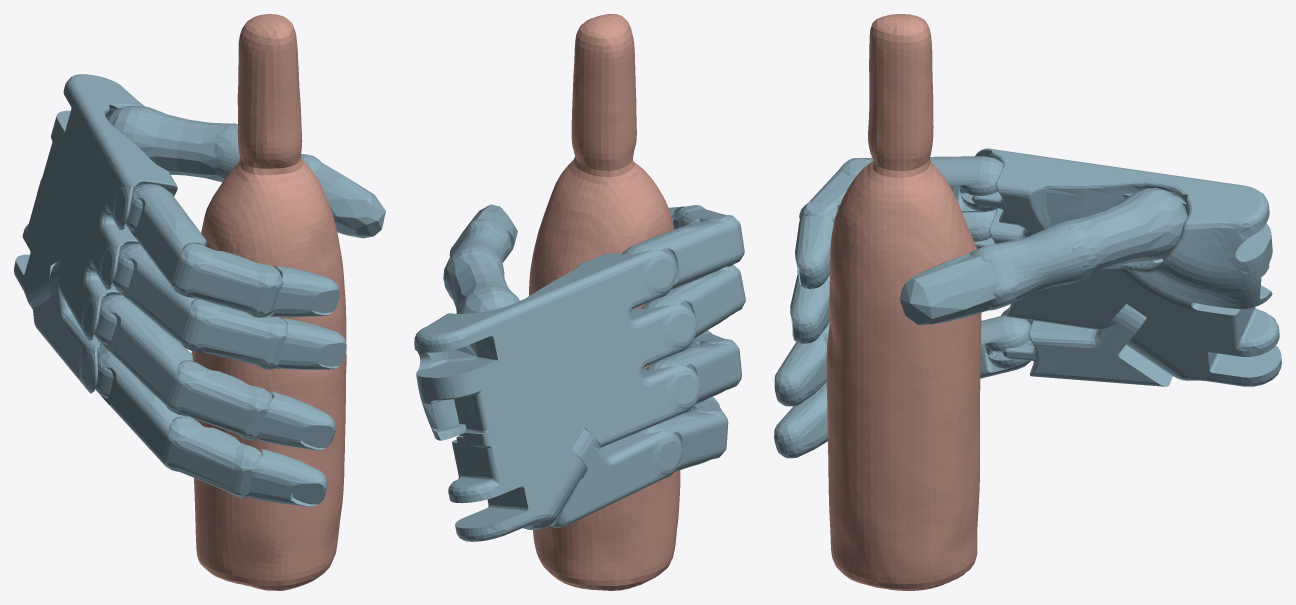
The model's file is 2_joint.glb.
3 renders of one model, left to right at view 1: azimuth 30°, elevation 25°; view 2: azimuth 150°, elevation 25°; view 3: azimuth 270°, elevation 25°, orthographic.
Visible parts, largest first — view 1: world; view 2: world; view 3: world.
Boxes of the visible parts, x1,y1,x2,y2 form: world: (14, 14, 385, 590); world: (414, 14, 745, 590); world: (774, 14, 1281, 590).
Bounding box in the file's own units: 0.7143 × 1.44 × 1.19.
